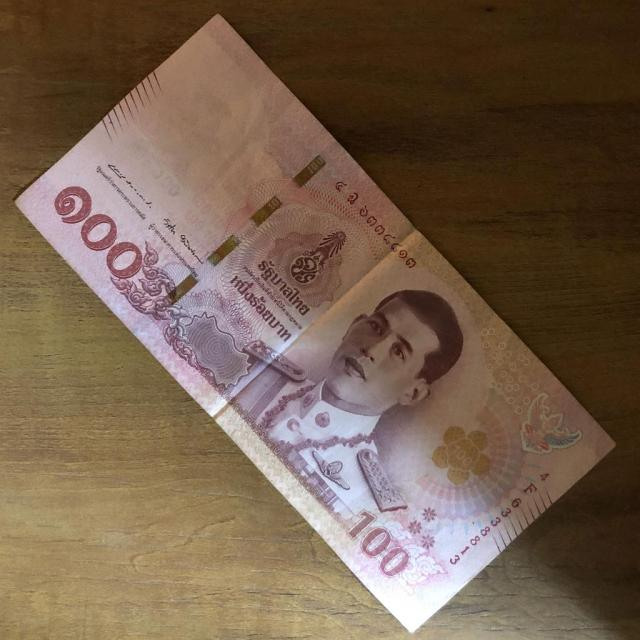THAI100: (14, 14, 618, 634)
